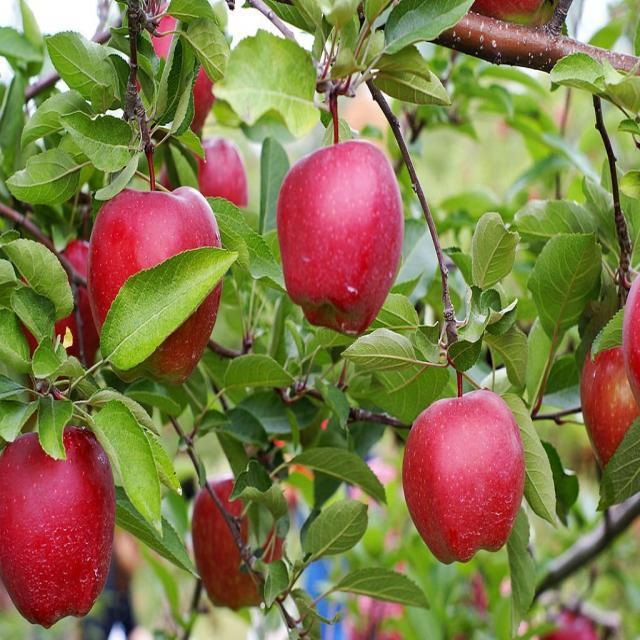Red Apple: (93, 185, 229, 369), (1, 435, 119, 618), (282, 144, 402, 312), (412, 397, 523, 547), (194, 478, 290, 600), (32, 241, 100, 361), (577, 332, 640, 457), (146, 12, 216, 121), (168, 140, 241, 235), (616, 264, 640, 413)
